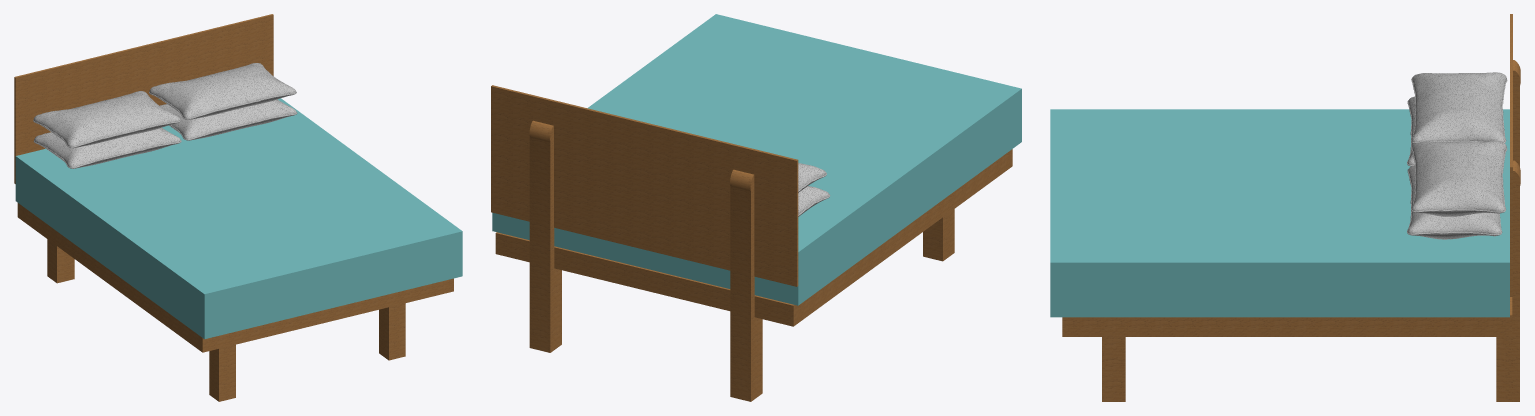
Rendered from Wendy bed slatted platform mono.dae.
The picture shows the model from 3 angles, left to right: view 1: azimuth 30°, elevation 25°; view 2: azimuth 150°, elevation 25°; view 3: azimuth 270°, elevation 25°; orthographic projection. The views are drawn at different scales.
Parts seen in each view (by area): view 1: Mattress, group_0 (×4), Headboard, Platform, leg_1 (×2), leg_3; view 2: Mattress, Headboard, leg_3 (×2), Platform, leg_1, group_0 (×2); view 3: Mattress, group_0 (×3), Platform, leg_3 (×2), leg_1, Headboard.
Part boxes in pixels (x1,y1,x2,y2): Mattress: [15, 98, 462, 339]; group_0 (×4): [33, 63, 296, 168]; Headboard: [14, 14, 273, 183]; Platform: [17, 203, 453, 352]; leg_1 (×2): [209, 303, 405, 401]; leg_3: [47, 239, 74, 283]; Mattress: [492, 14, 1021, 305]; Headboard: [491, 85, 798, 286]; leg_3 (×2): [529, 120, 762, 401]; Platform: [495, 149, 1012, 326]; leg_1: [923, 209, 954, 261]; group_0 (×2): [798, 163, 829, 216]; Mattress: [1050, 109, 1509, 317]; group_0 (×3): [1407, 72, 1506, 239]; Platform: [1062, 297, 1512, 336]; leg_3 (×2): [1496, 60, 1520, 401]; leg_1: [1102, 337, 1125, 401]; Headboard: [1510, 14, 1512, 296].
Size of the model in its own units: 60.04 by 77.76 by 46.65.
5 materials, 2 textured.
